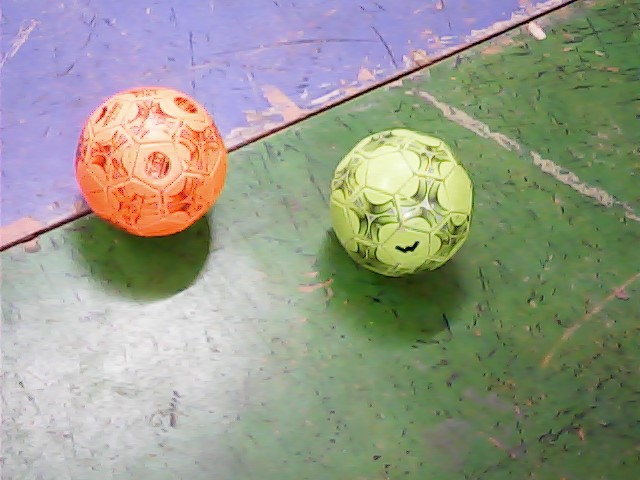Green_ball: (327, 125, 489, 286)
Orange_ball: (74, 86, 232, 239)
